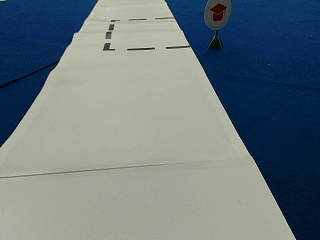school: (203, 1, 231, 29)
